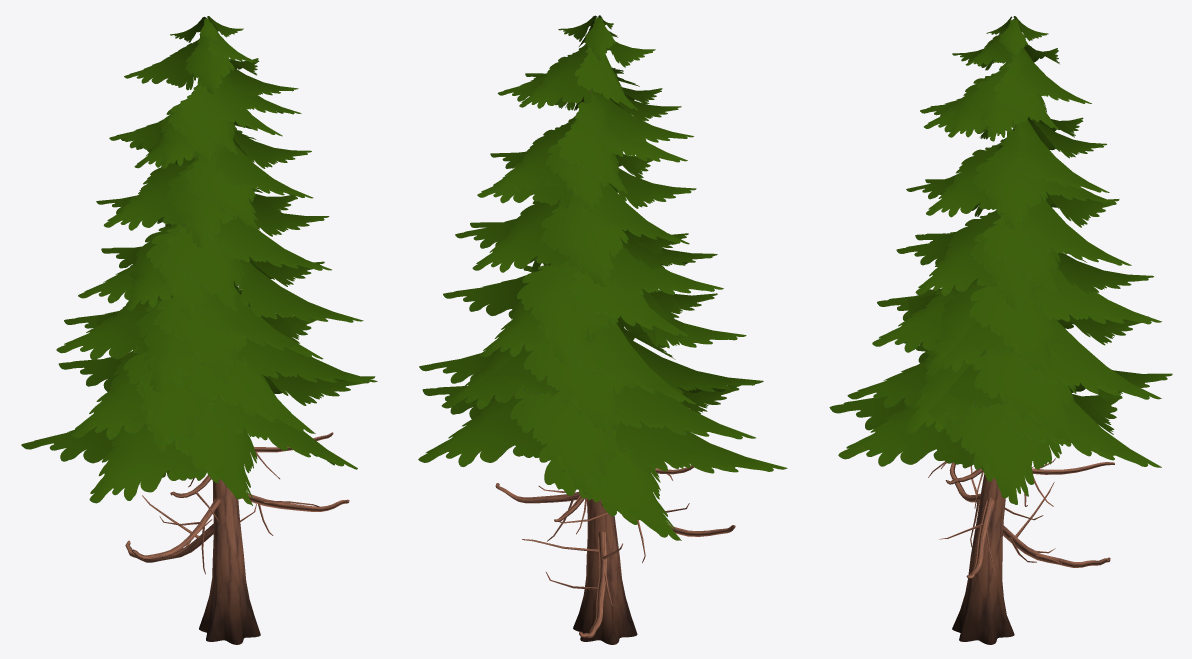
File: pine_4.glb
3 renders of one model, left to right at view 1: azimuth 30°, elevation 25°; view 2: azimuth 150°, elevation 25°; view 3: azimuth 270°, elevation 25°, orthographic. The views are drawn at different scales.
Parts seen in each view (by area): view 1: Pine_4; view 2: Pine_4; view 3: Pine_4.
Part boxes in pixels (x1,y1,x2,y2): Pine_4: (21, 16, 377, 644); Pine_4: (418, 15, 787, 644); Pine_4: (829, 16, 1172, 644).
Size of the model in its own units: 5.8 by 10.24 by 5.37.
2 materials, 2 textured.
